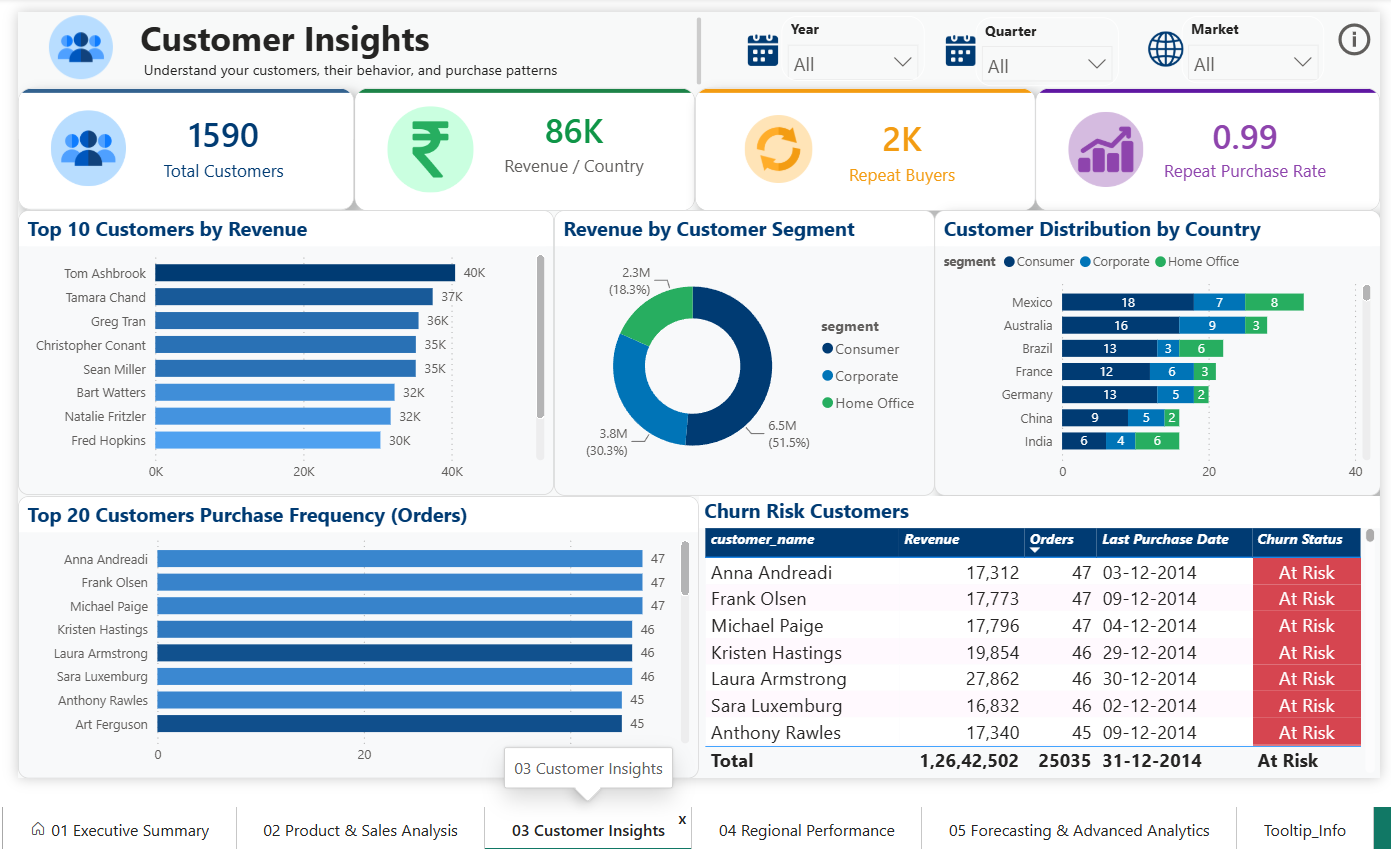

What the dashboard file says about the page in this screenshot:
{"tool":"powerbi","page":{"name":"03 Customer Insights","canvas":[1280,720],"ordinal":2},"visuals":[{"type":"textbox","box":[110.1,0,499.9,67.8],"z":0,"group":"g1"},{"type":"cardVisual","fields":{"Data":["_KeyMeasures.Customer Count"]},"box":[0,70.7,316,114.7],"z":0},{"type":"cardVisual","fields":{"Data":["_KeyMeasures.Revenue per Country"]},"box":[316,70.7,320,116],"z":1000},{"type":"cardVisual","fields":{"Data":["_KeyMeasures.Repeat Buyers"]},"box":[636,70.7,320,116],"z":2000},{"type":"cardVisual","fields":{"Data":["_KeyMeasures.Repeat Purchase Rate"]},"box":[956,70.7,324,116],"z":3000},{"type":"barChart","title":"Customer Distribution by Country","fields":{"Y":["_KeyMeasures.Customer Count"],"Category":["dim_region.country"],"Series":["dim_customer.segment"]},"box":[861,186.7,419.3,268.2],"z":4000},{"type":"actionButton","box":[1233,0,47.3,51.3],"z":5000},{"type":"cardVisual","fields":{"Data":["_KeyMeasures.Blank"]},"box":[1232.9,0,47.9,51.4],"z":6000},{"type":"donutChart","title":"Revenue by Customer Segment","fields":{"Category":["dim_customer.segment"],"Y":["_KeyMeasures.Revenue"]},"box":[503.5,186.7,357.6,268.2],"z":7000},{"type":"clusteredBarChart","title":"Top 10 Customers by Revenue","fields":{"Y":["_KeyMeasures.Revenue"],"Category":["dim_customer.customer_name"]},"box":[0,186.7,504,268],"z":8000},{"type":"tableEx","title":"Churn Risk Customers ","fields":{"Values":["dim_customer.customer_name","_KeyMeasures.Revenue","_KeyMeasures.Orders","_KeyMeasures.Last Purchase Date","_KeyMeasures.Churn Status"]},"box":[640,454.7,640,265.3],"z":9000},{"type":"barChart","title":"Top 20 Customers Purchase Frequency (Orders)","fields":{"Category":["dim_customer.customer_name"],"Y":["_KeyMeasures.Orders"]},"box":[0,454.7,640,265.3],"z":10000},{"type":"group","id":"g1","title":"Group 1","box":[8.9,0,601.1,67.8],"z":11000},{"type":"slicer","fields":{"Values":["dim_date.year"]},"box":[718,4,134.4,60.6],"z":12000},{"type":"slicer","fields":{"Values":["dim_date.quarter"]},"box":[900,4.7,134.4,64.4],"z":13000},{"type":"slicer","fields":{"Values":["dim_region.market"]},"box":[1093.3,4,134.1,63.1],"z":14000},{"type":"image","box":[8.9,0,101.2,66.4],"z":15000,"group":"g1"},{"type":"image","box":[677.8,7,45,52.2],"z":15000},{"type":"image","box":[863.3,7.8,44.4,53.9],"z":16000},{"type":"image","box":[1060.6,14,37.8,41.7],"z":17000},{"type":"shape","box":[610,4.4,60,63.3],"z":18000}]}

Visuals, with their boxes on the page's 1280x720 design canvas (x1, y1, x2, y2). These are canvas units, not pixel positions in the 1391x849 screenshot, which may show the page scaled, cropped or inside an application window:
textbox: 110/0/610/68
cardVisual - _KeyMeasures.Customer Count: 0/71/316/185
cardVisual - _KeyMeasures.Revenue per Country: 316/71/636/187
cardVisual - _KeyMeasures.Repeat Buyers: 636/71/956/187
cardVisual - _KeyMeasures.Repeat Purchase Rate: 956/71/1280/187
"Customer Distribution by Country" barChart: 861/187/1280/455
actionButton: 1233/0/1280/51
cardVisual - _KeyMeasures.Blank: 1233/0/1281/51
"Revenue by Customer Segment" donutChart: 504/187/861/455
"Top 10 Customers by Revenue" clusteredBarChart: 0/187/504/455
"Churn Risk Customers " tableEx: 640/455/1280/720
"Top 20 Customers Purchase Frequency (Orders)" barChart: 0/455/640/720
"Group 1" group: 9/0/610/68
slicer - dim_date.year: 718/4/852/65
slicer - dim_date.quarter: 900/5/1034/69
slicer - dim_region.market: 1093/4/1227/67
image: 9/0/110/66
image: 678/7/723/59
image: 863/8/908/62
image: 1061/14/1098/56
shape: 610/4/670/68
